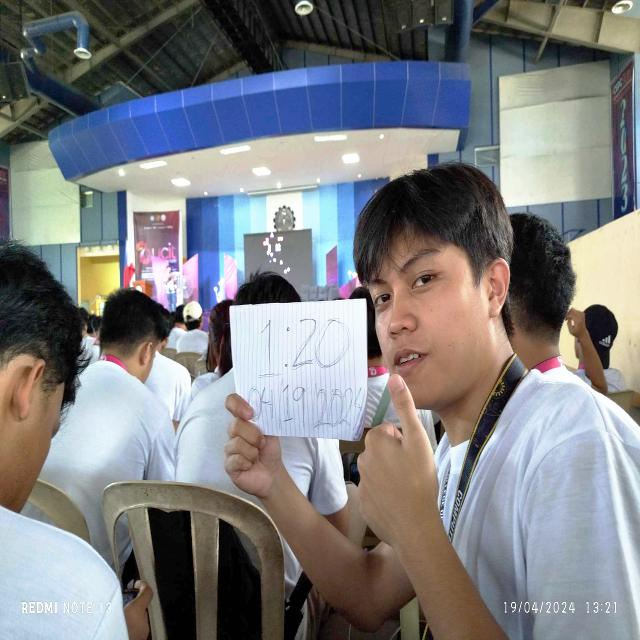other_gesture: (353, 371, 443, 544), (220, 392, 286, 500)
